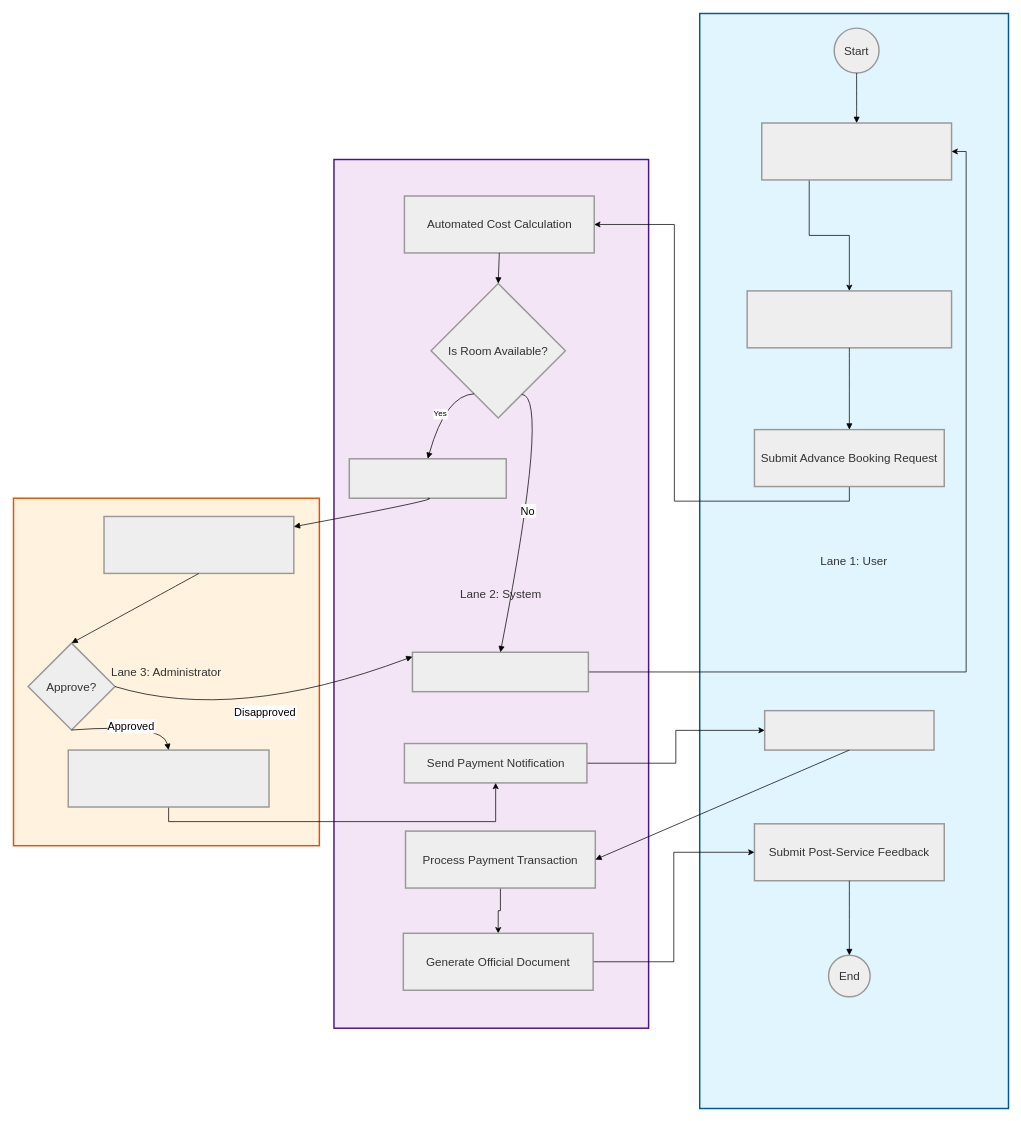
The diagram is 1021 pixels wide and 1121 high, and some of its shapes have lost their labels. The shapes that lost their labels are listed below. From the top down, each one's centre as x and y in pixels, then its label:
At (x=856, y=151): "Search Real-time Availability".
At (x=849, y=319): "Select Add-ons & Customize Service".
At (x=427, y=478): "Save Pending Request".
At (x=198, y=544): "Review Request via Dashboard".
At (x=500, y=671): "Notify Unavailable Status".
At (x=849, y=730): "Process Secure Payment".
At (x=168, y=778): "Update Status & Attach Approval File".
